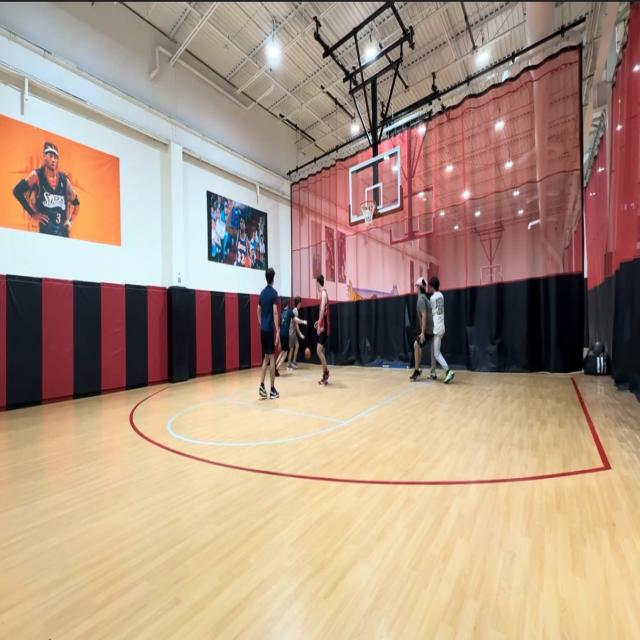Basketball: (305, 347, 310, 358)
Basketball Rim: (360, 200, 377, 226)
Player: (258, 268, 280, 399), (428, 277, 454, 384), (276, 297, 308, 378), (409, 277, 433, 382), (314, 272, 332, 385), (290, 297, 305, 370)
